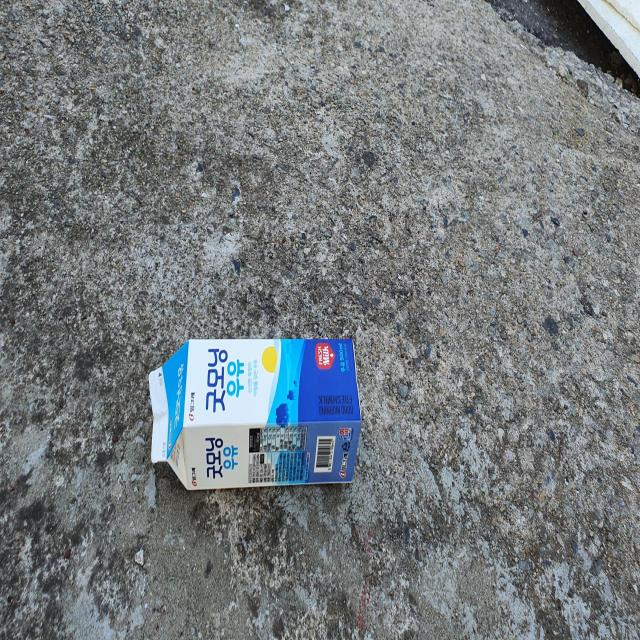paperpack: (148, 338, 361, 490)
